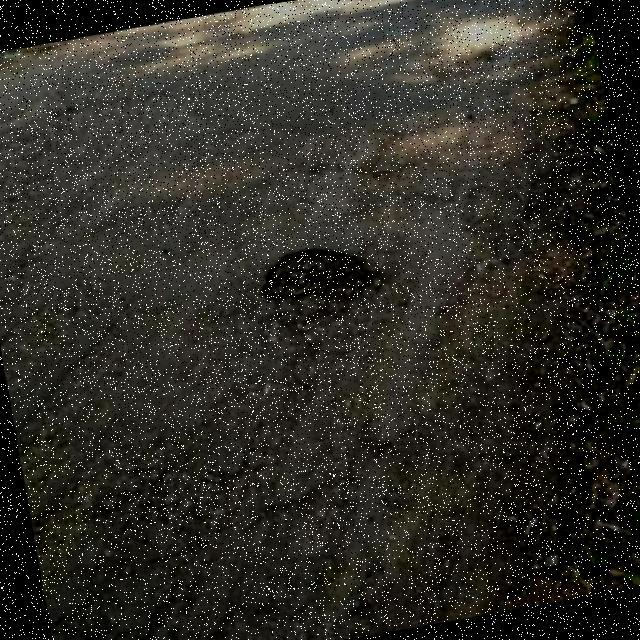Pothole: (261, 248, 381, 312)
